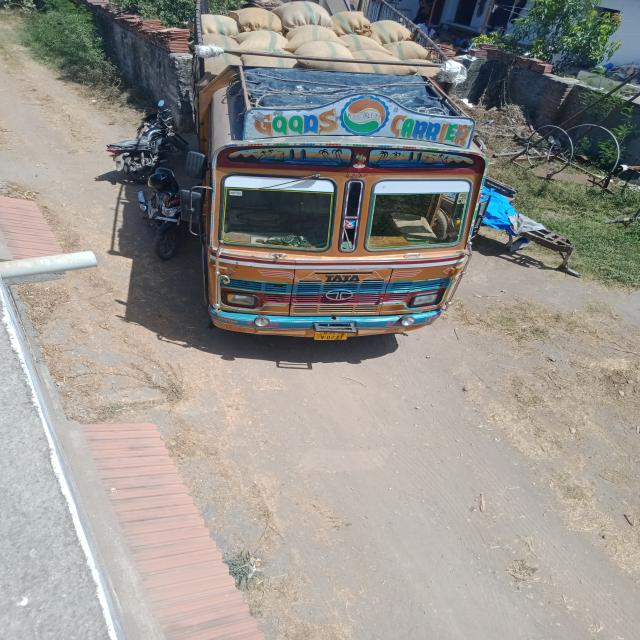truck: (71, 17, 547, 390)
